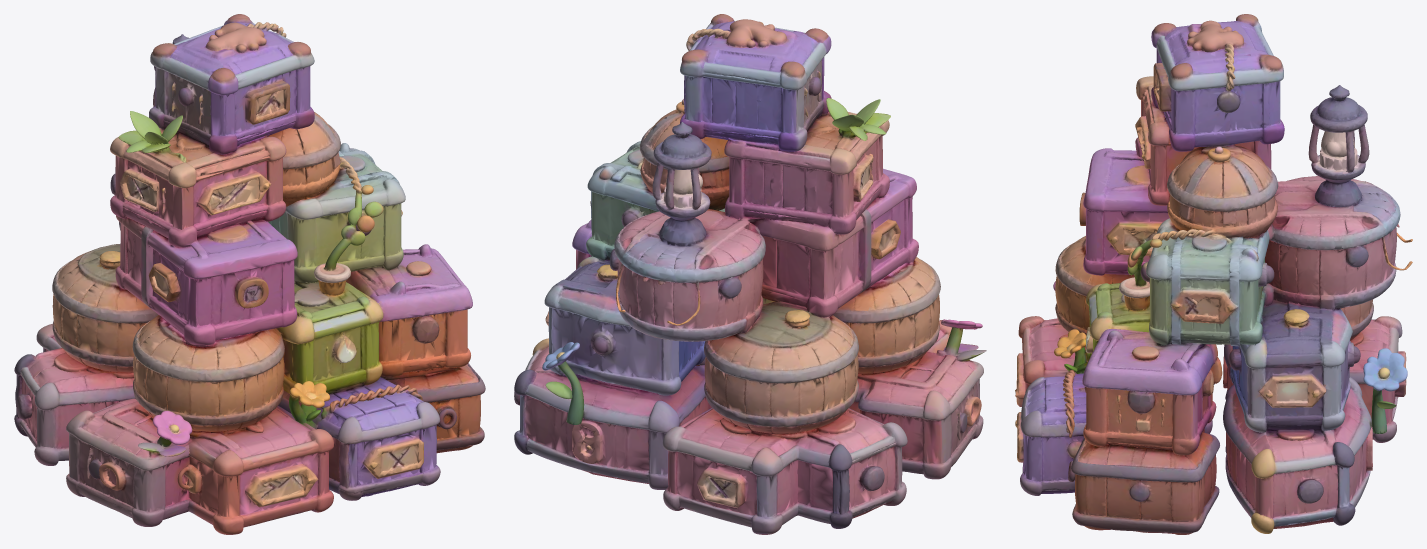
The model's file is cover_cargo.glb.
3 views of the same model, side by side, from view 1: azimuth 30°, elevation 25°; view 2: azimuth 150°, elevation 25°; view 3: azimuth 270°, elevation 25° (orthographic).
Visible parts, largest first — view 1: tripo_node_cc6b1043-579f-422d-b8ae-4336aaef381f; view 2: tripo_node_cc6b1043-579f-422d-b8ae-4336aaef381f; view 3: tripo_node_cc6b1043-579f-422d-b8ae-4336aaef381f.
Boxes of the visible parts, x1=… form: tripo_node_cc6b1043-579f-422d-b8ae-4336aaef381f: x1=14, y1=14, x2=485, y2=534; tripo_node_cc6b1043-579f-422d-b8ae-4336aaef381f: x1=514, y1=14, x2=986, y2=534; tripo_node_cc6b1043-579f-422d-b8ae-4336aaef381f: x1=1015, y1=14, x2=1412, y2=534.
Bounding box in the file's own units: 0.9507 × 1 × 0.8642.
1 material, 1 textured.
